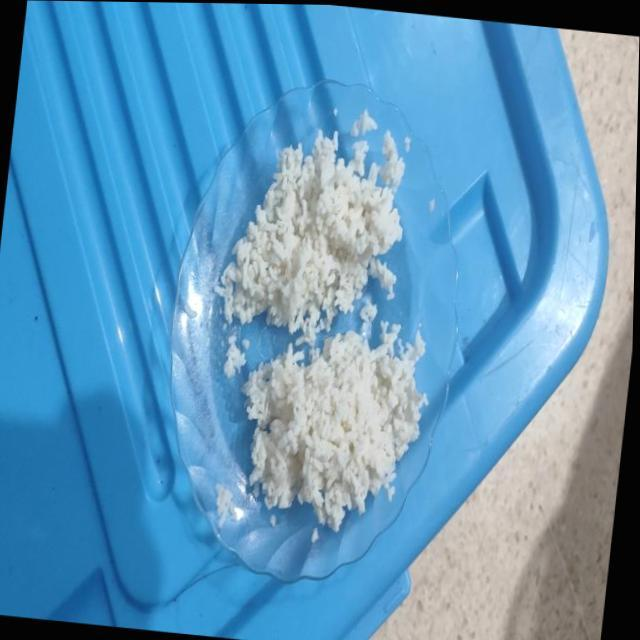nasi_putih: (221, 130, 404, 341), (242, 328, 428, 531)
